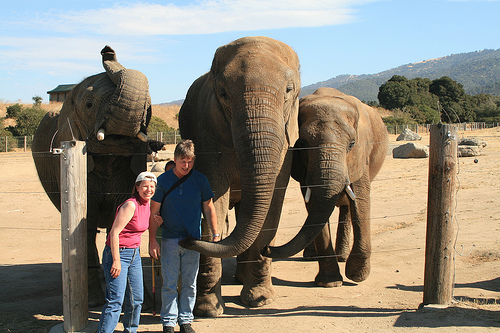elephant: (176, 28, 307, 322), (30, 39, 157, 310), (268, 69, 396, 297)
